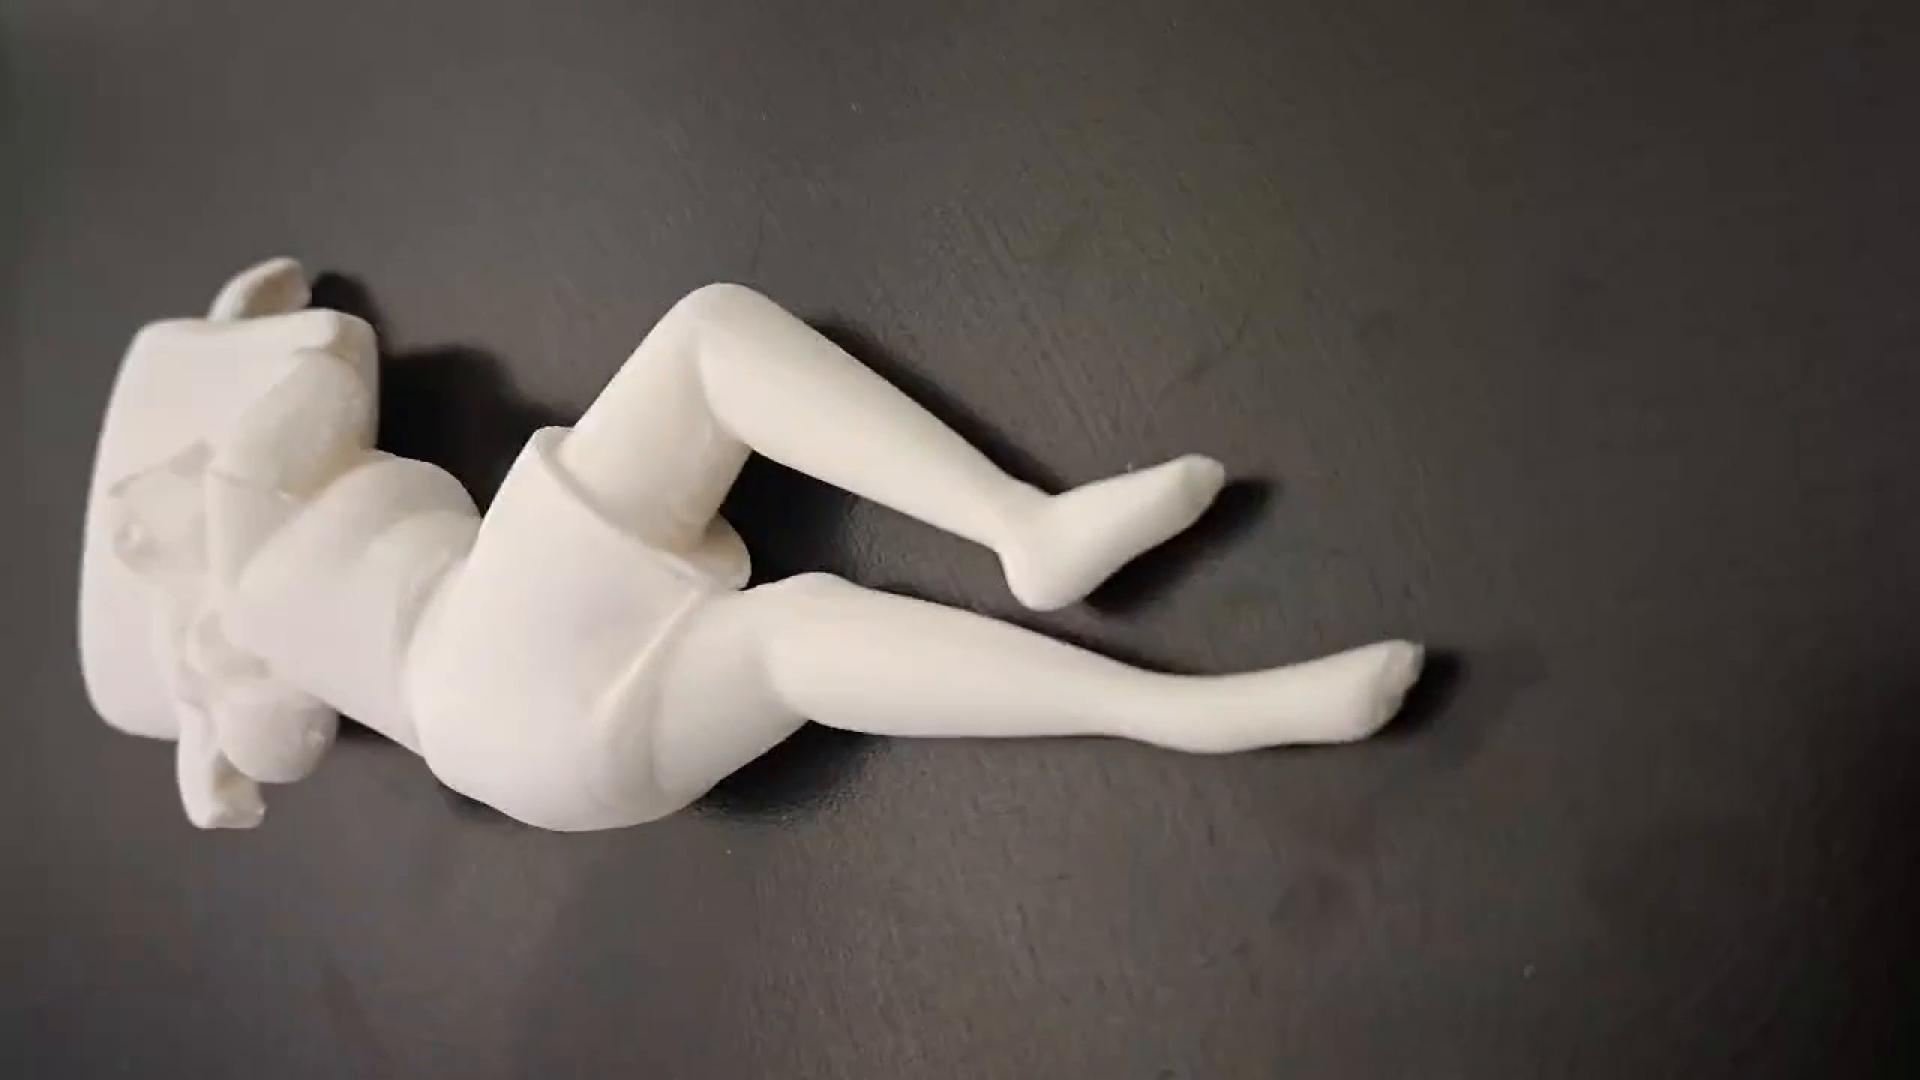Good-style: (73, 253, 1431, 837)
